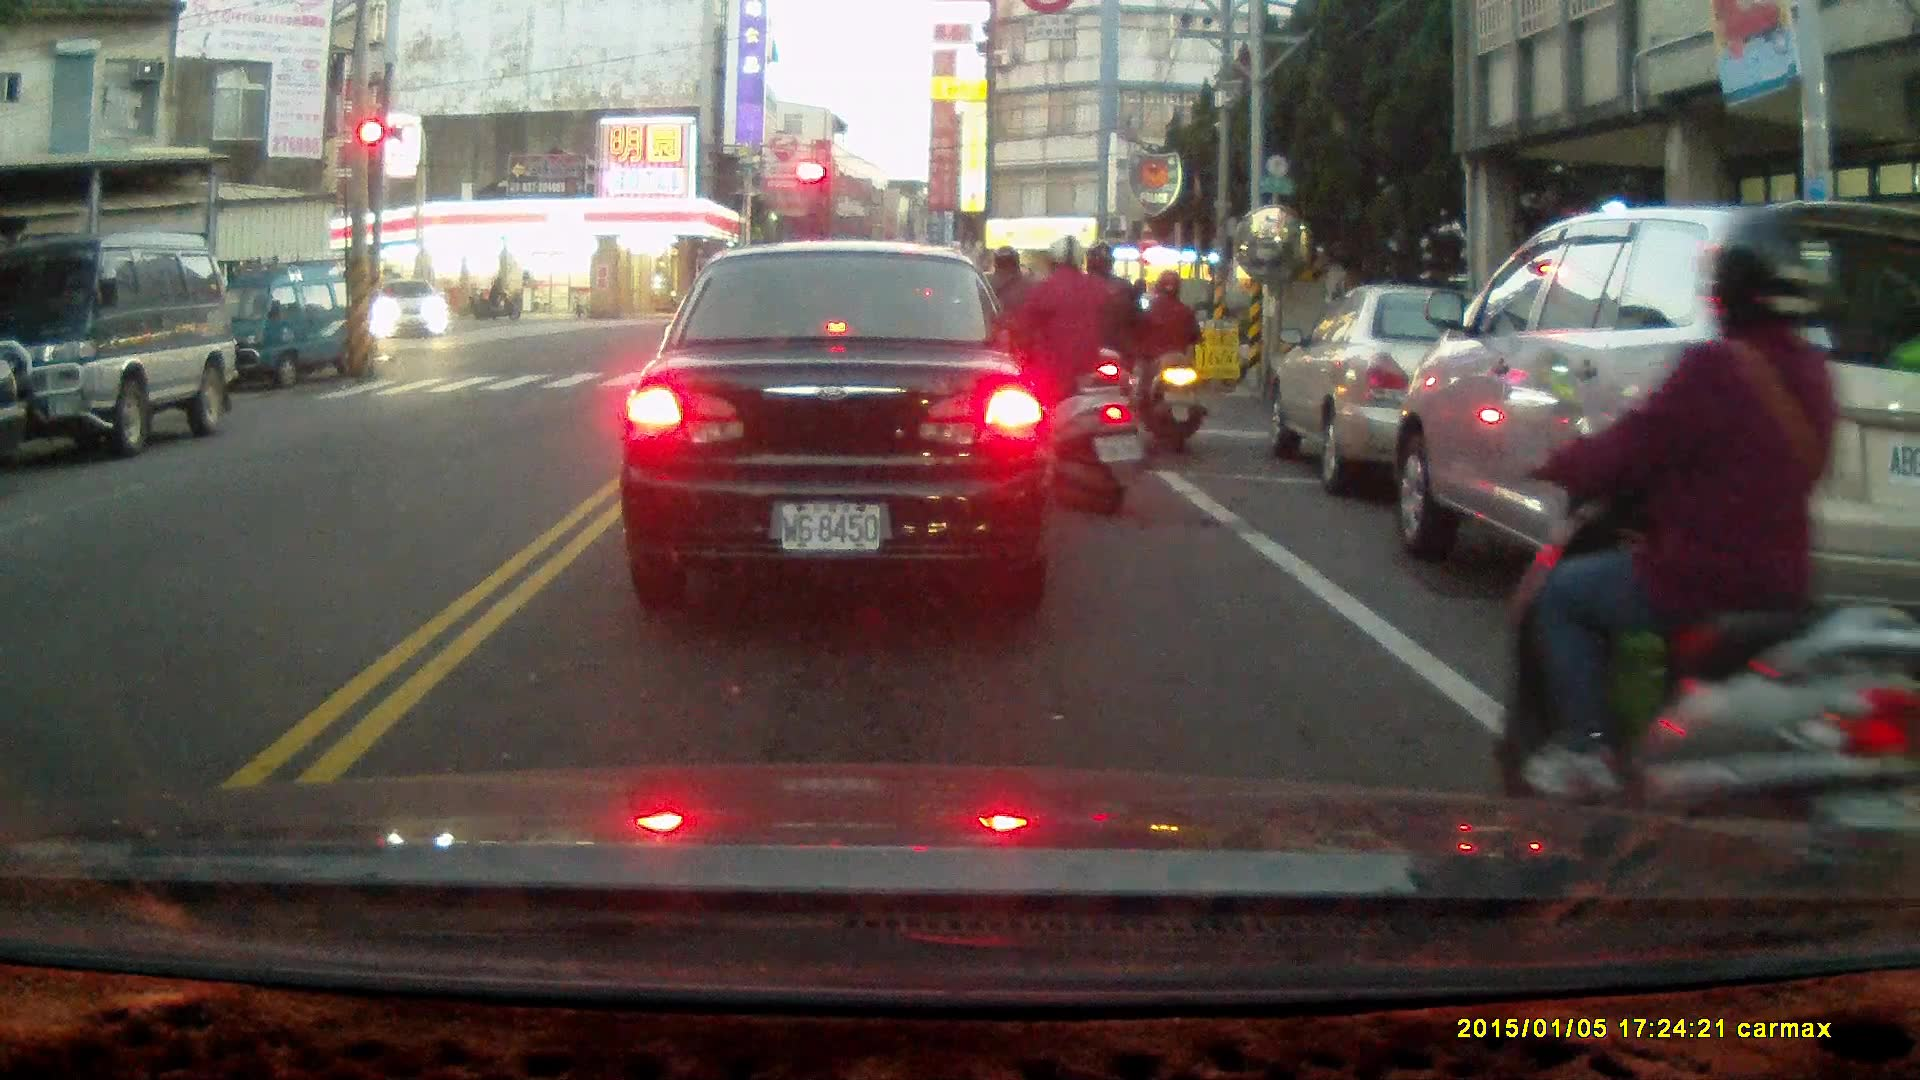rider: (1494, 208, 1920, 913), (993, 232, 1147, 518), (1048, 242, 1141, 468), (960, 239, 1057, 434), (1134, 269, 1204, 450), (473, 279, 519, 322)
vehicle: (1380, 198, 1920, 690), (617, 243, 1061, 606), (1266, 286, 1566, 500), (1, 234, 239, 458), (194, 255, 381, 393), (372, 277, 451, 343)
